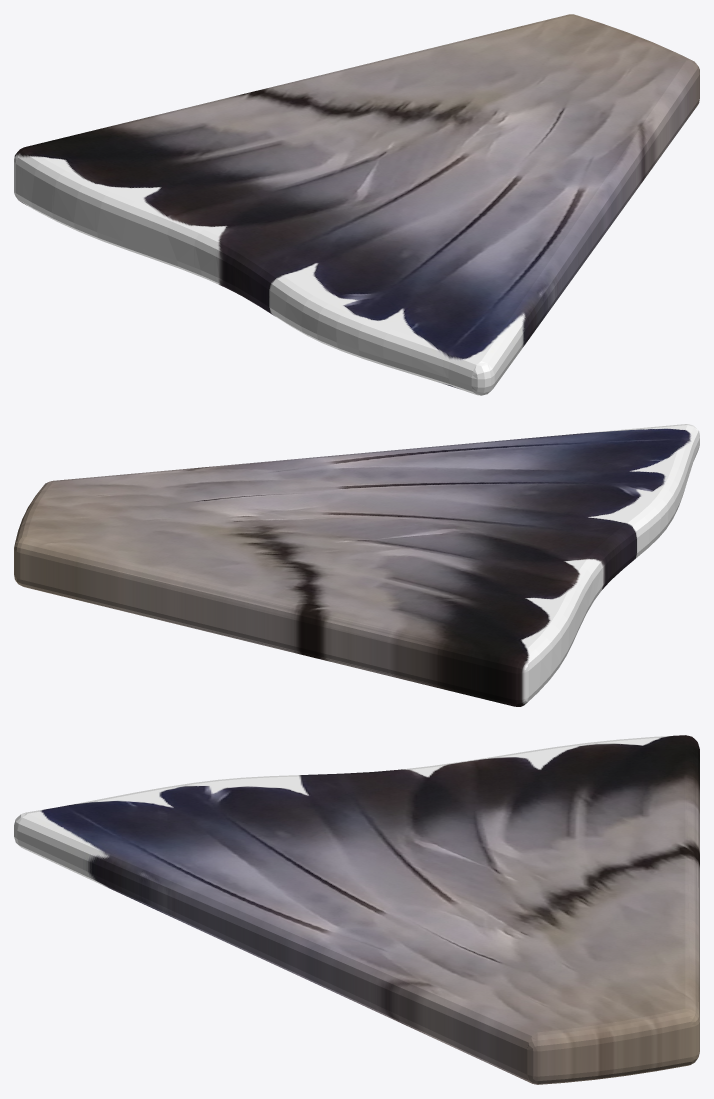
File: right_mid_wing_texture.dae
The picture shows the model from 3 angles, top to bottom: view 1: azimuth 30°, elevation 25°; view 2: azimuth 150°, elevation 25°; view 3: azimuth 270°, elevation 25°; orthographic projection. The views are drawn at different scales.
Parts seen in each view (by area): view 1: node; view 2: node; view 3: node.
Part boxes in pixels (box(x1,y1,x2,y2)): node: box(14, 14, 699, 395); node: box(14, 424, 699, 706); node: box(14, 735, 699, 1084).
Size of the model in its own units: 5.95 by 0.5086 by 5.65.
1 material, 1 textured.
